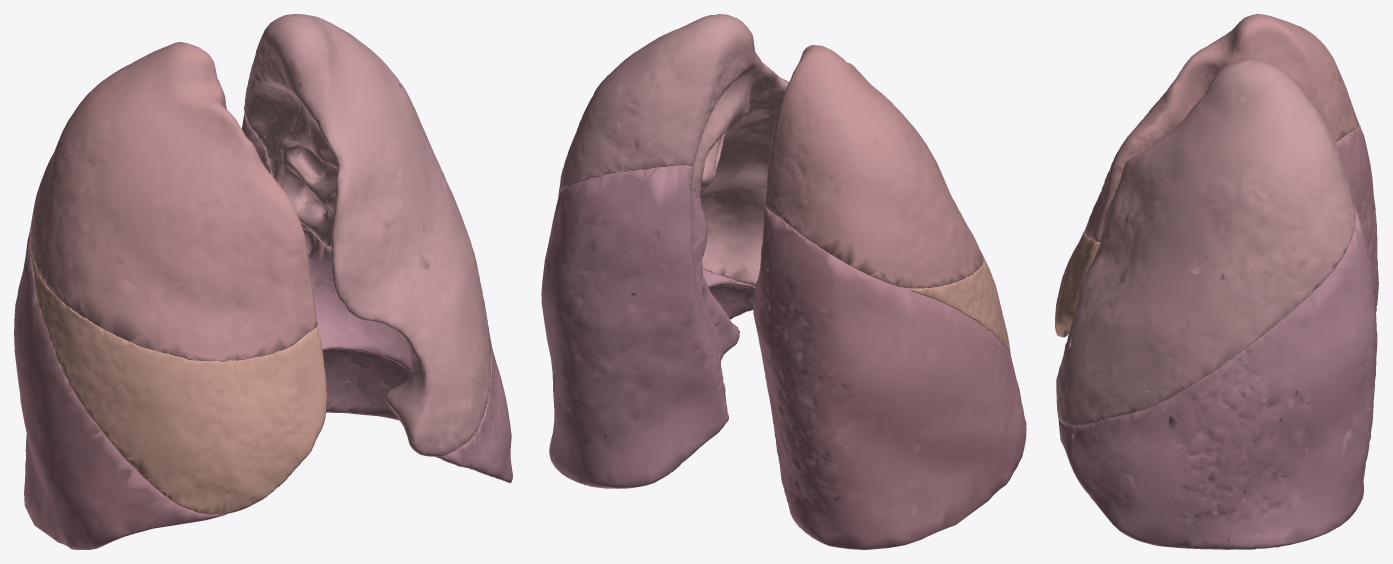
The model's file is lungs.glb.
The picture shows the model from 3 angles, left to right: view 1: azimuth 30°, elevation 25°; view 2: azimuth 150°, elevation 25°; view 3: azimuth 270°, elevation 25°; orthographic projection. The views are drawn at different scales.
Parts seen in each view (by area): view 1: FMA7333, FMA7370, FMA7383, FMA7337, FMA7371; view 2: FMA7337, FMA7371, FMA7333, FMA7370, FMA7383; view 3: FMA7370, FMA7371, FMA7333, FMA7337, FMA7383.
Boxes of the visible parts, box(x1,y1,x2,y2) form: FMA7333: box(29, 42, 317, 361); FMA7370: box(244, 14, 490, 457); FMA7383: box(30, 249, 327, 514); FMA7337: box(14, 227, 227, 549); FMA7371: box(242, 113, 512, 482); FMA7337: box(753, 207, 1026, 549); FMA7371: box(541, 165, 755, 488); FMA7333: box(765, 45, 983, 288); FMA7370: box(558, 14, 788, 286); FMA7383: box(907, 253, 1010, 356); FMA7370: box(1056, 59, 1355, 425); FMA7371: box(1058, 203, 1377, 549); FMA7333: box(1084, 14, 1359, 241); FMA7337: box(1335, 125, 1378, 311); FMA7383: box(1055, 230, 1099, 337).
Bounding box in the file's own units: 3.23 × 3.3 × 2.31.
